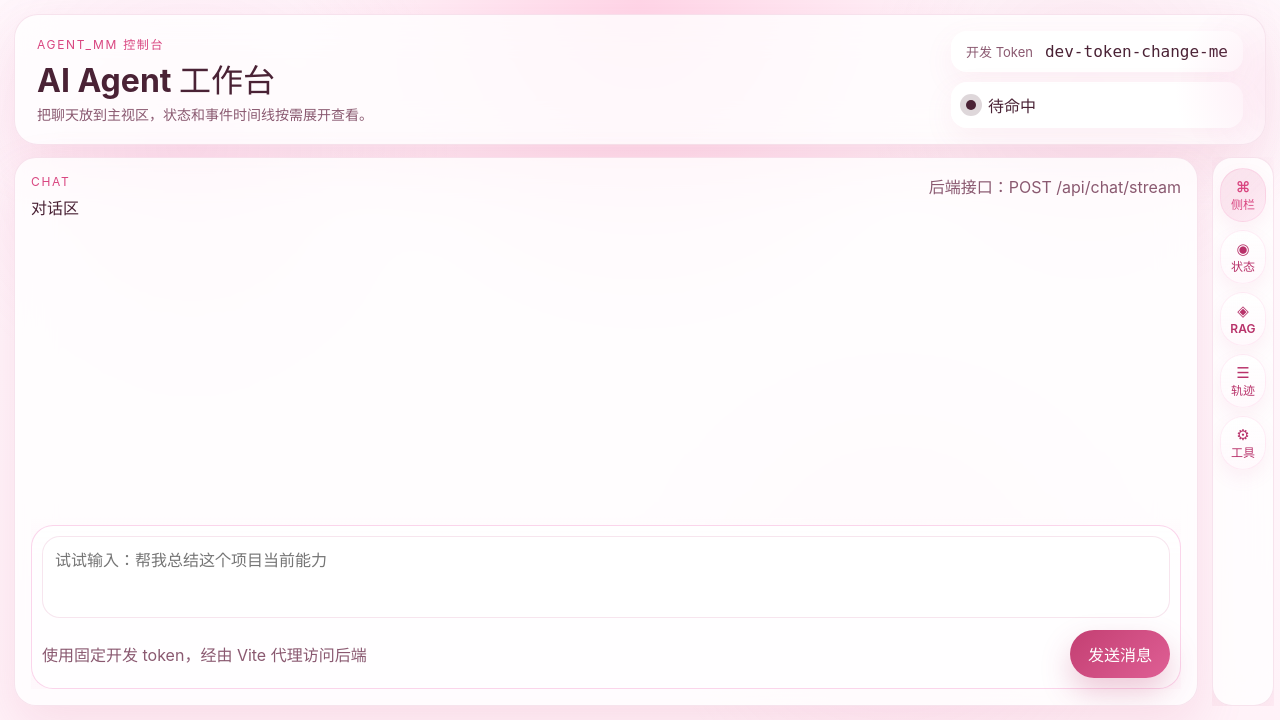
App inspector layout › renders the new inspector shell structure when sidebar opens
Click the button with aria-label "展开侧栏" at (1243, 195), box [1220,168,1266,222]
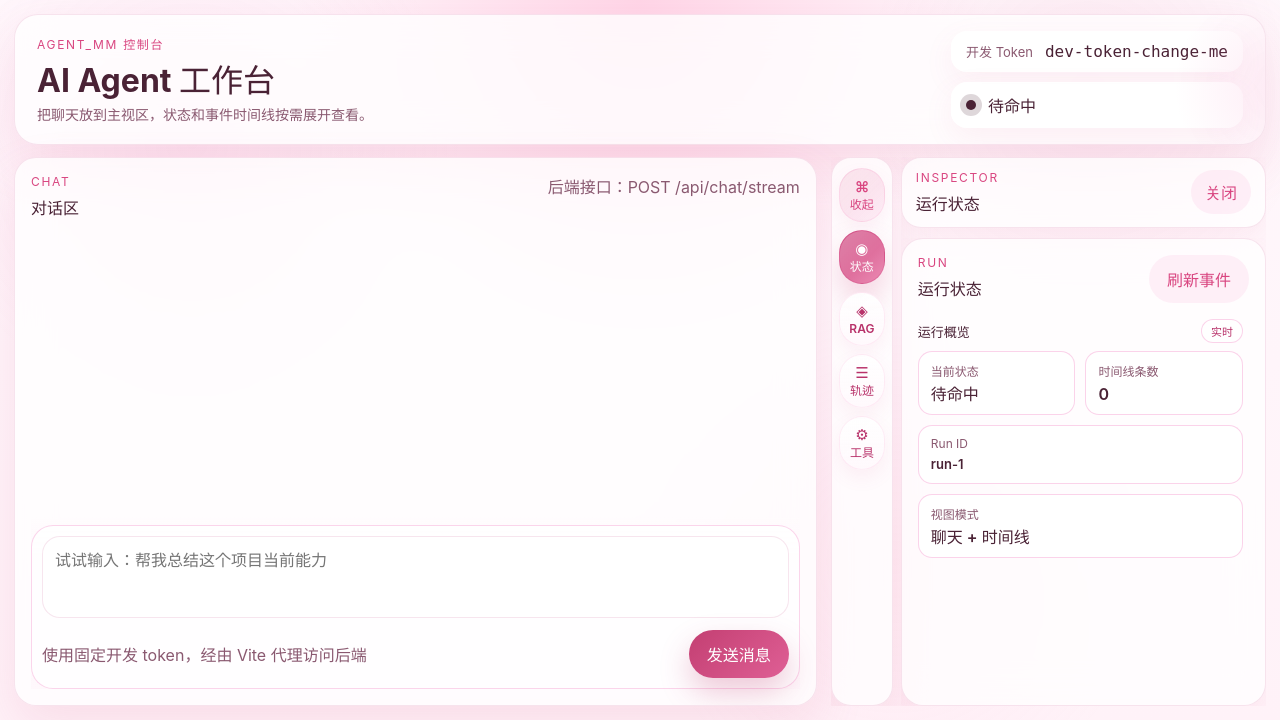
Expected: the element with class "inspector-shell" is shown, [831,157,1266,706]
Expected: the element with class "inspector-main" is shown, [901,157,1266,706]
Expected: the element with class "inspector-pane-host" is shown, [901,238,1266,706]
